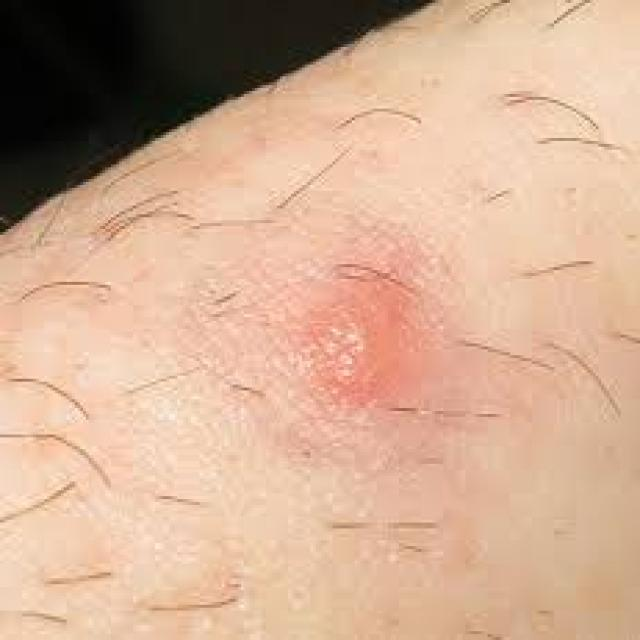kene: (262, 266, 446, 425)
